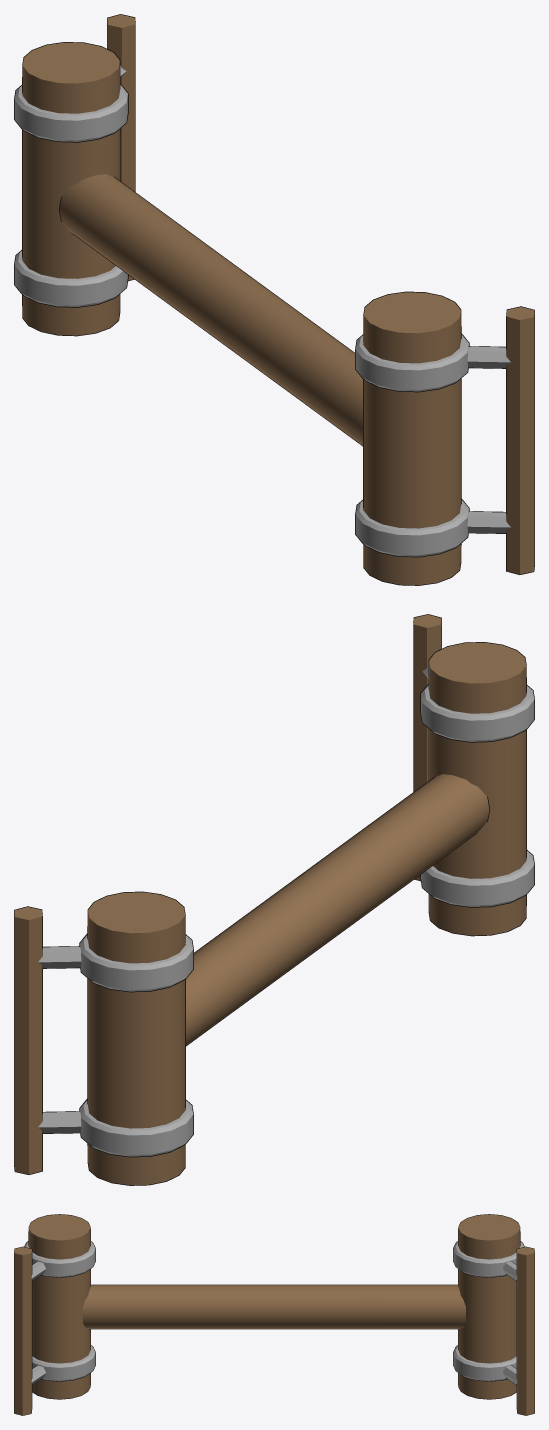
File: Ladder.fbx
The picture shows the model from 3 angles, top to bottom: view 1: azimuth 30°, elevation 25°; view 2: azimuth 150°, elevation 25°; view 3: azimuth 270°, elevation 25°; orthographic projection. The views are drawn at different scales.
Parts seen in each view (by area): view 1: Cylinder; view 2: Cylinder; view 3: Cylinder.
Part boxes in pixels (x1,y1,x2,y2): Cylinder: [14, 14, 534, 585]; Cylinder: [14, 614, 534, 1185]; Cylinder: [14, 1214, 534, 1415].
Size of the model in its own units: 175 by 298 by 875.
